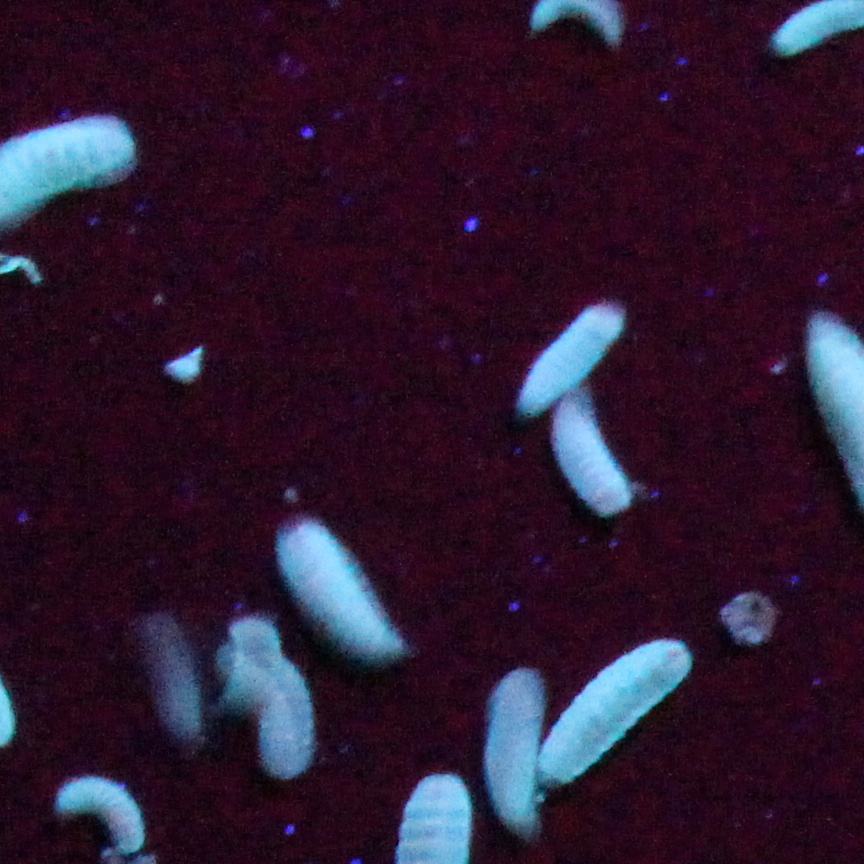larve: (530, 648, 696, 794), (270, 508, 396, 674), (223, 620, 314, 780), (516, 301, 623, 428), (556, 414, 636, 528), (490, 664, 543, 835), (54, 775, 145, 853)
